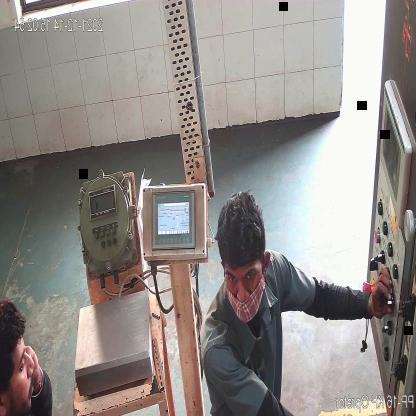no_goggles: (224, 266, 262, 293)
